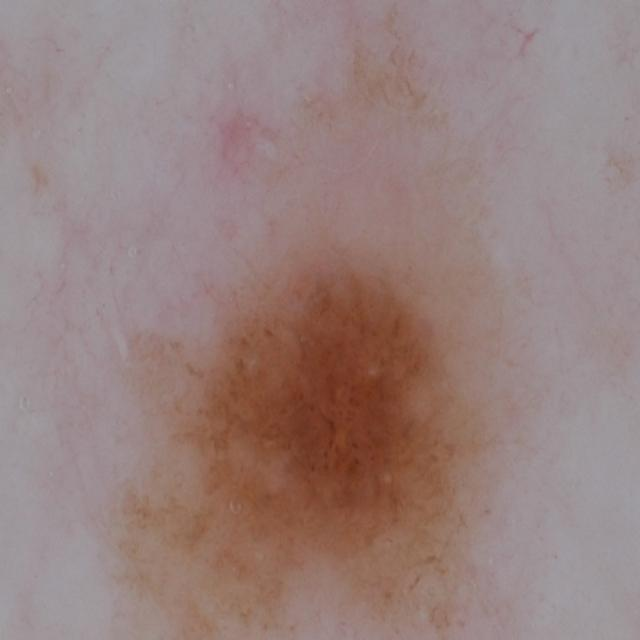Melanoma: (120, 215, 582, 640)
